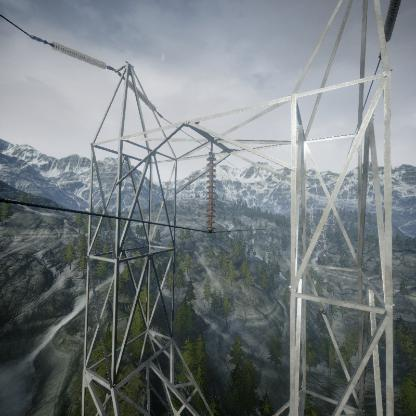insulator: (30, 35, 115, 70), (126, 74, 159, 115), (204, 151, 217, 231), (380, 0, 403, 43)
